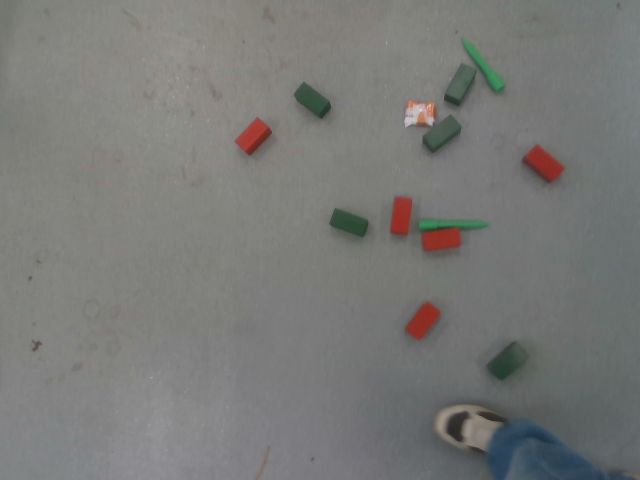Probe: (458, 34, 508, 95), (416, 215, 493, 233)
